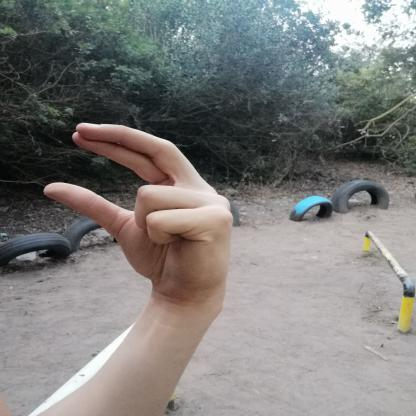DHELL: (30, 113, 247, 302)
